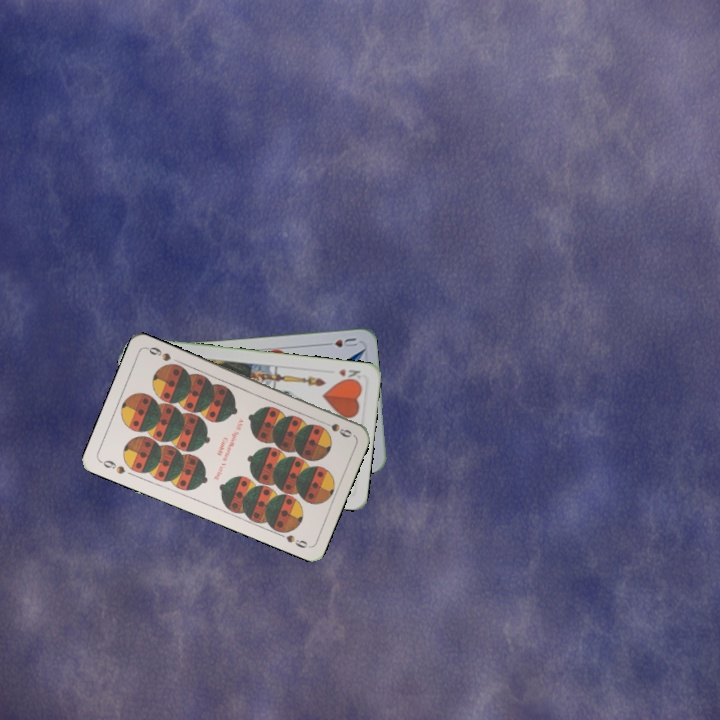HK: (334, 365, 363, 385)
HU: (320, 334, 360, 350)
S9: (316, 416, 354, 440), (96, 456, 128, 477)
